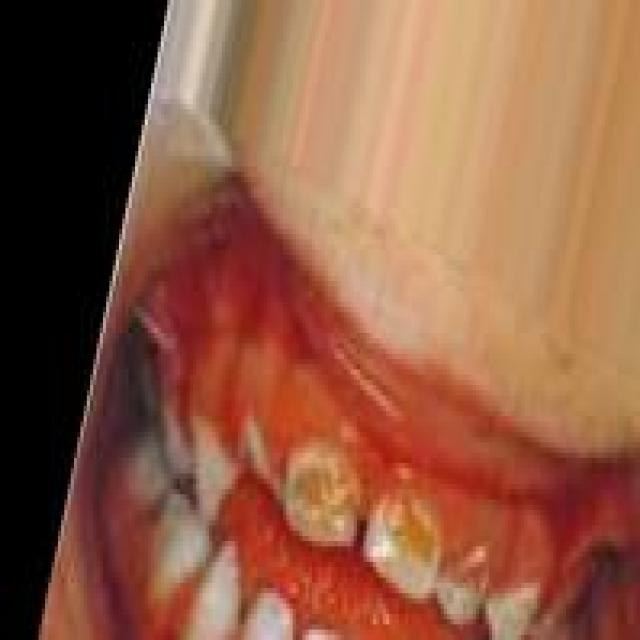caries: (365, 478, 438, 612), (285, 435, 363, 556), (435, 532, 488, 630)
